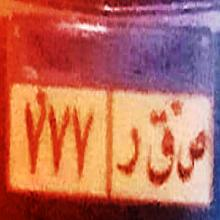7: (70, 97, 94, 176), (22, 101, 46, 180), (48, 98, 70, 170)
qaaf: (144, 104, 176, 199)
raa: (116, 119, 140, 181)
saad: (177, 124, 206, 184)
